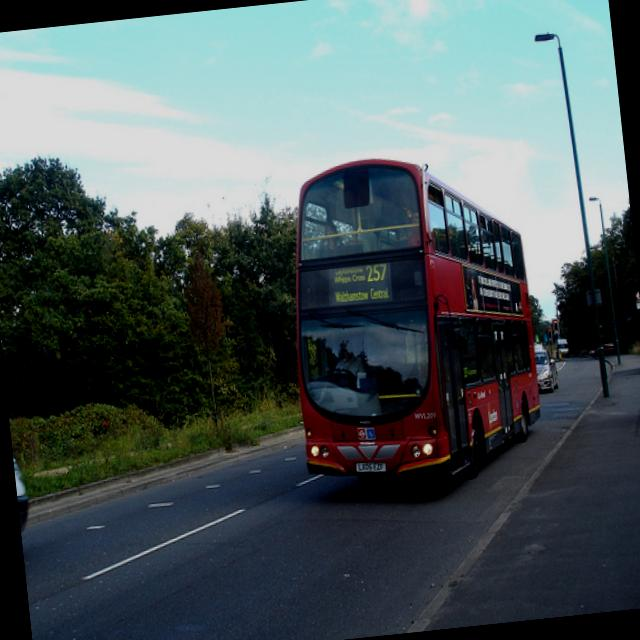Vehicle: (266, 146, 558, 494), (9, 420, 47, 564), (533, 348, 561, 392), (588, 342, 616, 358), (534, 341, 546, 352)
